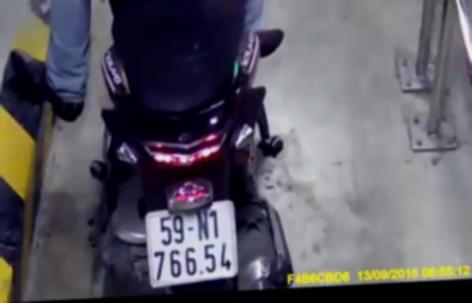License_Plate: (137, 197, 245, 289)
